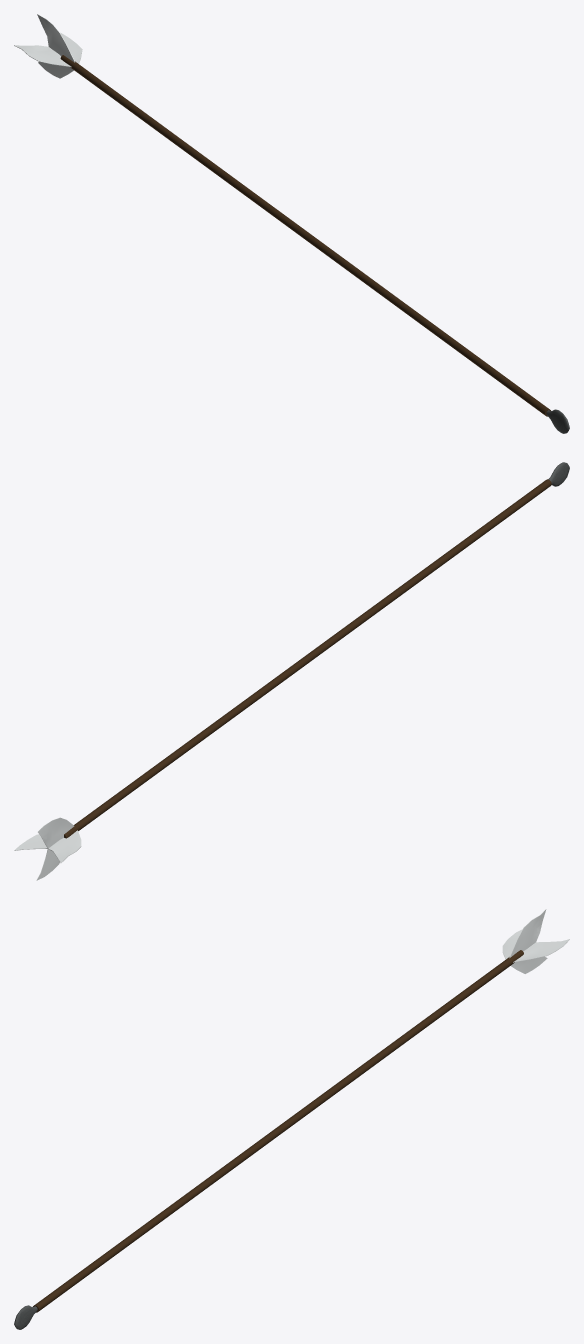
Rendered from NewBow.fbx.
The picture shows the model from 3 angles, top to bottom: view 1: azimuth 30°, elevation 25°; view 2: azimuth 150°, elevation 25°; view 3: azimuth 330°, elevation 25°; orthographic projection.
Visible parts, largest first — view 1: arrow; view 2: arrow; view 3: arrow.
Boxes of the visible parts, box(x1,y1,x2,y2) form: arrow: box(14, 14, 569, 433); arrow: box(14, 462, 569, 880); arrow: box(14, 909, 569, 1329).
Bounding box in the file's own units: 0.1632 × 0.1632 × 3.1.
1 material, 1 textured.
